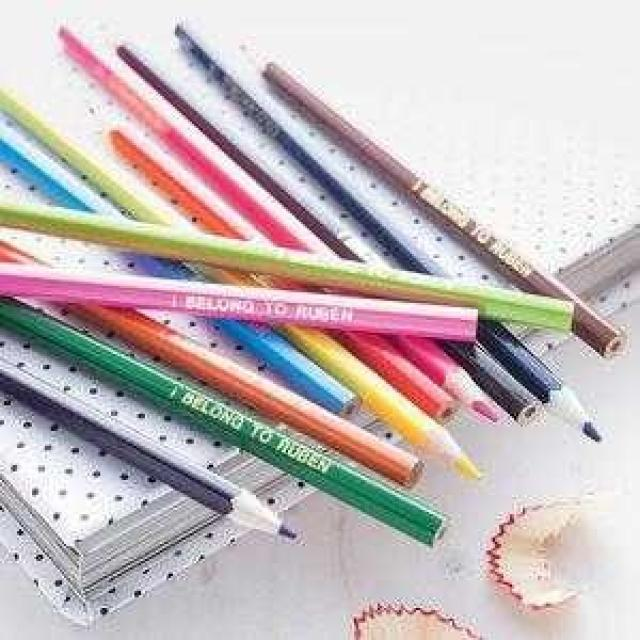pencil: (0, 64, 499, 495), (153, 7, 620, 449), (212, 12, 638, 368), (0, 277, 472, 562), (0, 327, 348, 547)
